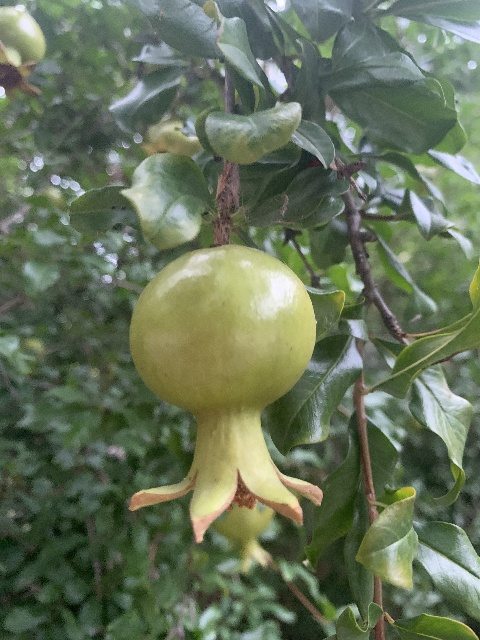mid-growth: (128, 243, 323, 543), (210, 500, 275, 573), (0, 5, 46, 99), (140, 120, 203, 159)
